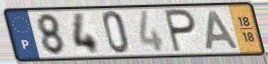0: (101, 10, 134, 56)
4: (70, 11, 103, 56), (138, 8, 168, 55)
8: (35, 12, 68, 57)
A: (204, 9, 241, 52)
P: (163, 8, 198, 55)
